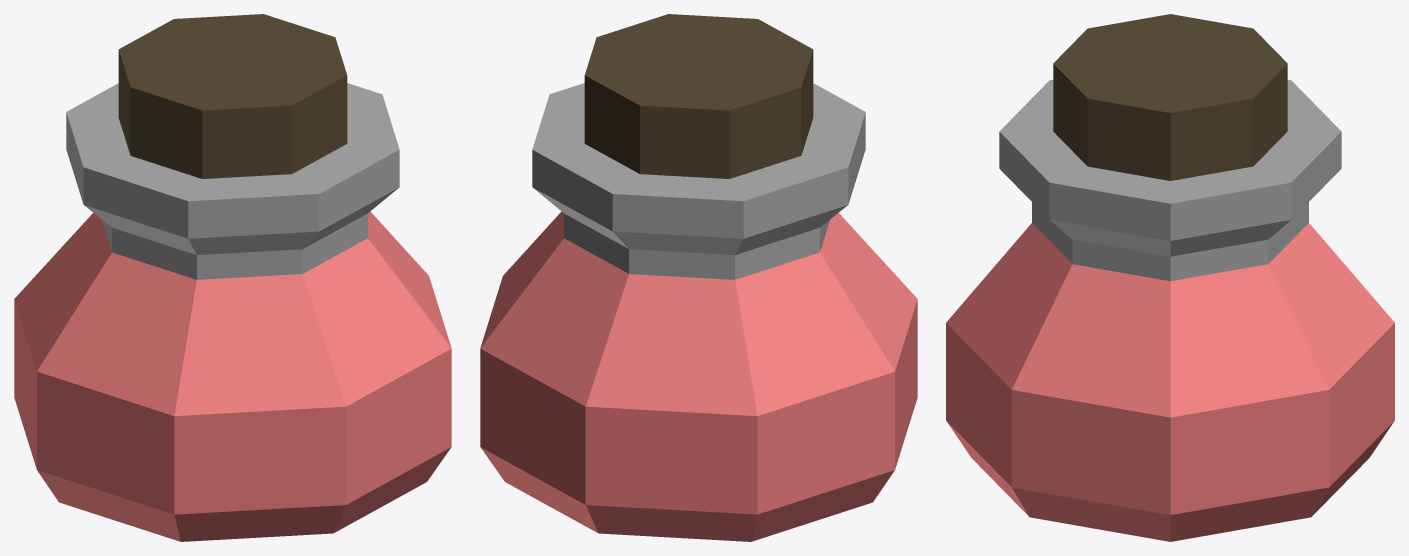
The model's file is HP_portion.fbx.
3 views of the same model, side by side, from view 1: azimuth 30°, elevation 25°; view 2: azimuth 150°, elevation 25°; view 3: azimuth 270°, elevation 25° (orthographic).
Parts seen in each view (by area): view 1: polySurface16; view 2: polySurface16; view 3: polySurface16.
Part boxes in pixels (<box>): polySurface16: <box>14,14,451,541</box>; polySurface16: <box>480,14,917,541</box>; polySurface16: <box>946,14,1394,541</box>.
Bounding box in the file's own units: 44.45 × 43.06 × 44.45.
